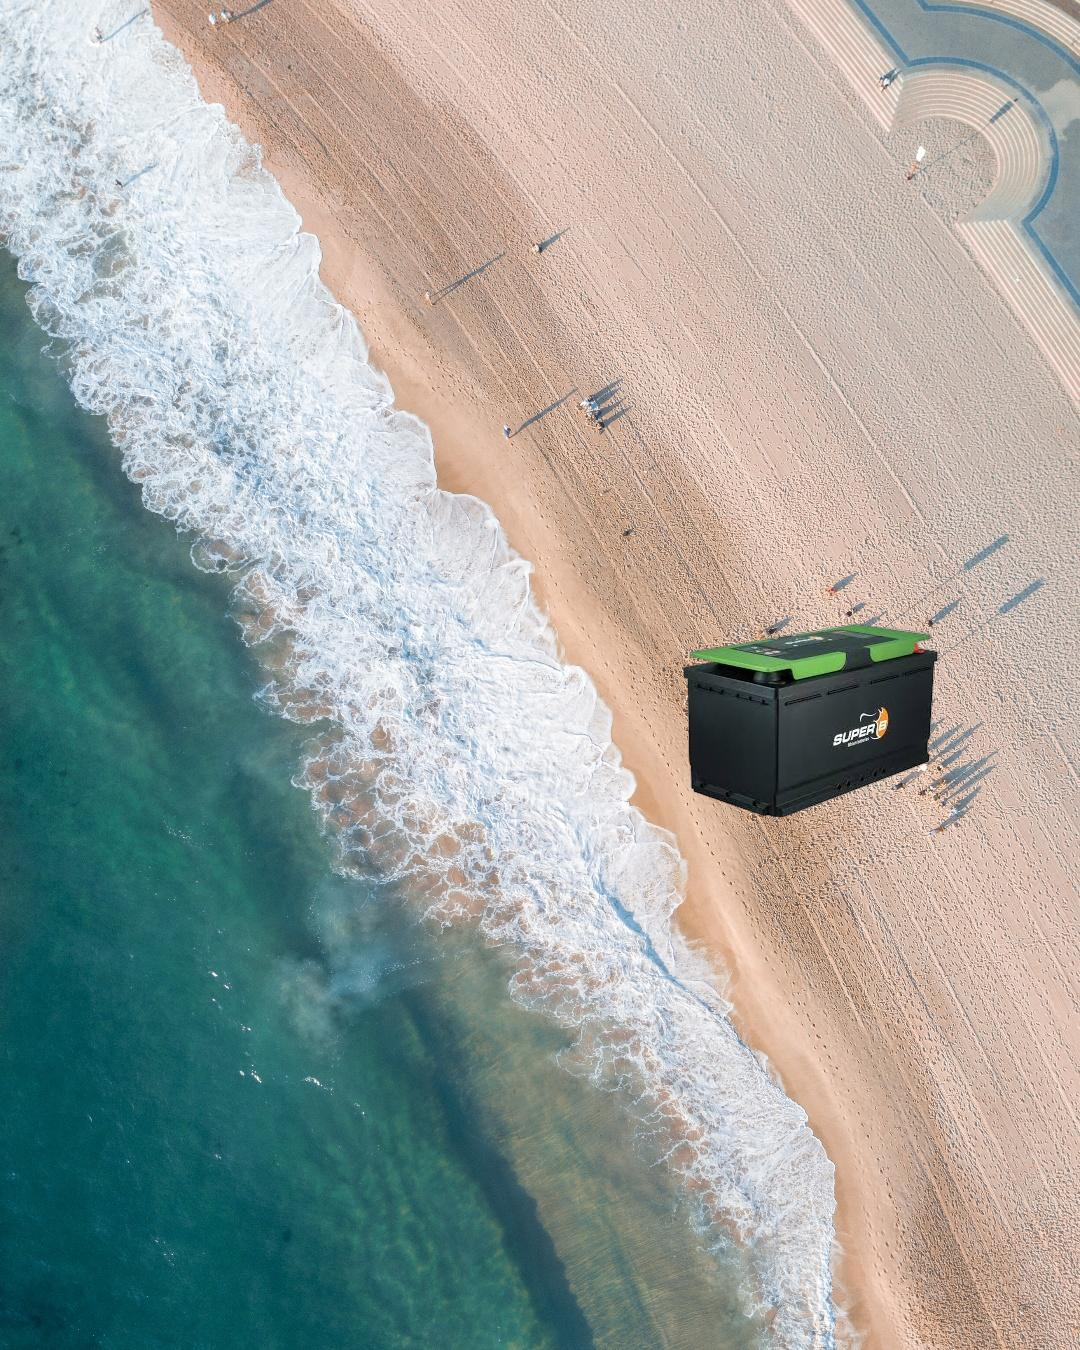battery: (683, 623, 939, 820)
